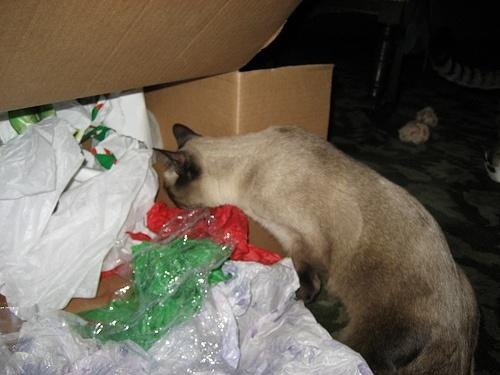cat: (153, 121, 482, 375)
